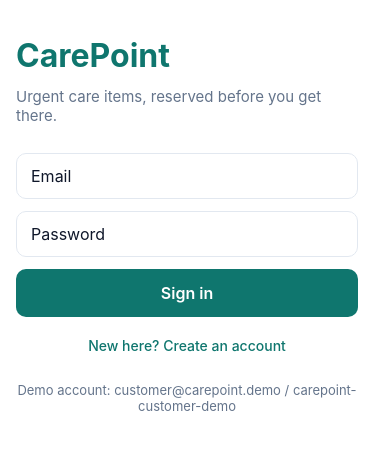
it: SignInScreen › shows the server's error for a wrong password
Type "customer@carepoint.demo" into the field labelled "Email" at (187,176), box [16,153,358,199]
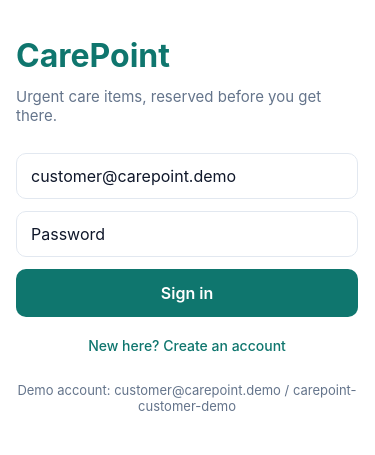
Type "wrong" into the password field labelled "Password" at (187,234), box [16,211,358,257]
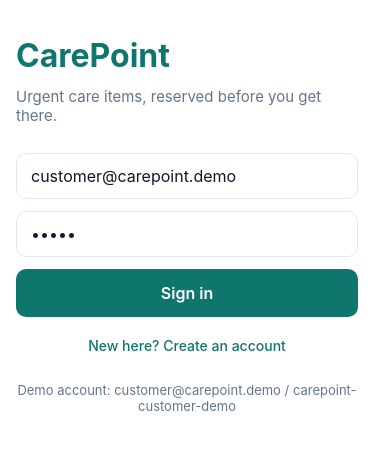
Click the button "Sign in" at (187,293), box [16,269,358,317]
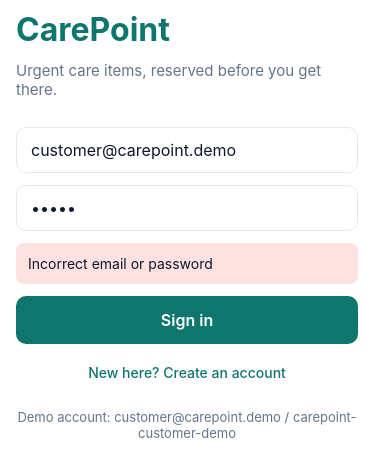
Result: the text "Incorrect email or password" is shown at [28,254,213,272]
